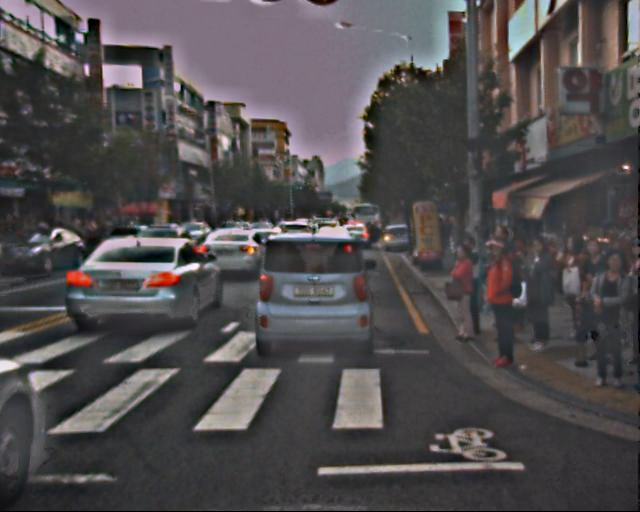person: (577, 249, 634, 389), (474, 240, 526, 367), (571, 234, 619, 350), (517, 238, 561, 346), (490, 224, 533, 329), (554, 234, 597, 338), (479, 223, 519, 321), (442, 243, 482, 340), (450, 235, 489, 331), (440, 217, 459, 246)
